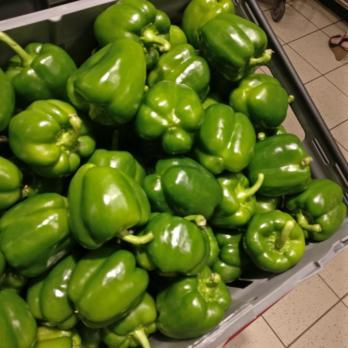Capsicum: (0, 37, 159, 348), (149, 98, 310, 273), (96, 0, 275, 104), (162, 275, 230, 335), (289, 172, 344, 239)
